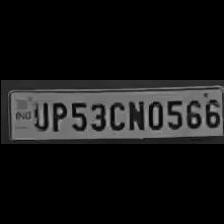0: (144, 98, 164, 130)
3: (88, 99, 106, 131)
5: (66, 99, 88, 131), (164, 96, 182, 130)
6: (183, 97, 201, 129), (202, 96, 220, 128)
C: (105, 99, 125, 131)
N: (125, 97, 143, 130)
P: (47, 98, 65, 132)
U: (28, 99, 48, 131)
